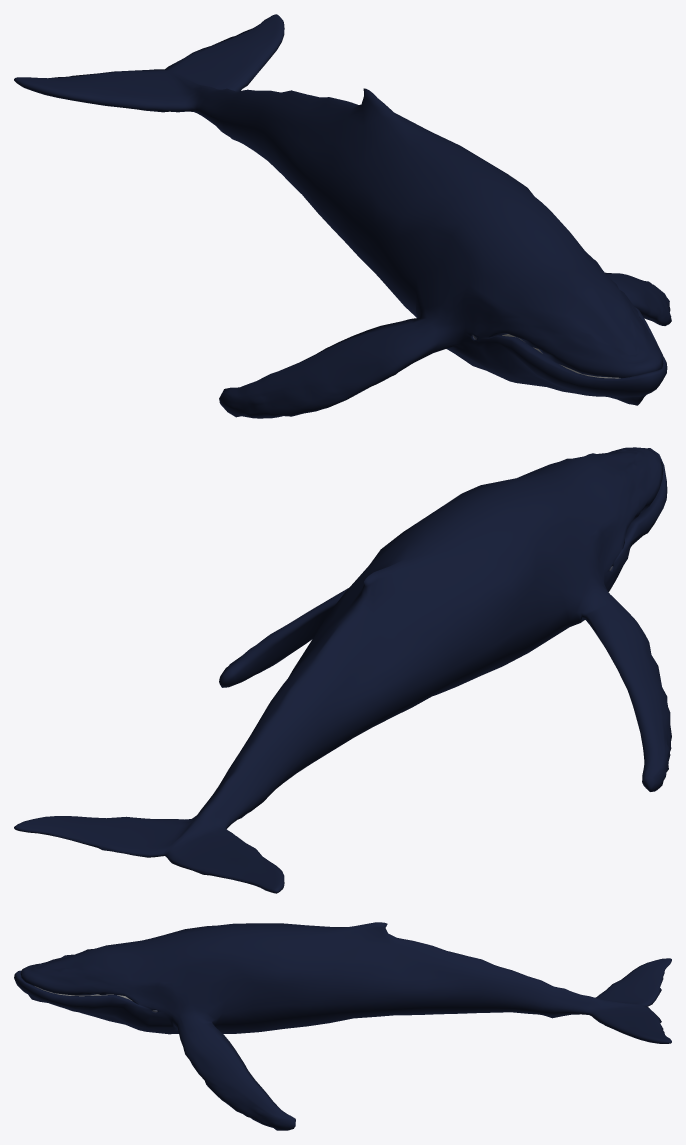
Rendered from 3854523_WhaleOBJ.obj.
The picture shows the model from 3 angles, top to bottom: view 1: azimuth 30°, elevation 25°; view 2: azimuth 150°, elevation 25°; view 3: azimuth 270°, elevation 25°; orthographic projection. The views are drawn at different scales.
Visible parts, largest first — view 1: Whale_mesh.002; view 2: Whale_mesh.002; view 3: Whale_mesh.002.
Part boxes in pixels (x1,y1,x2,y2): Whale_mesh.002: (14,14,671,418); Whale_mesh.002: (14,447,671,893); Whale_mesh.002: (14,922,671,1130).
Bounding box in the file's own units: 9.54 × 4.52 × 19.14.
